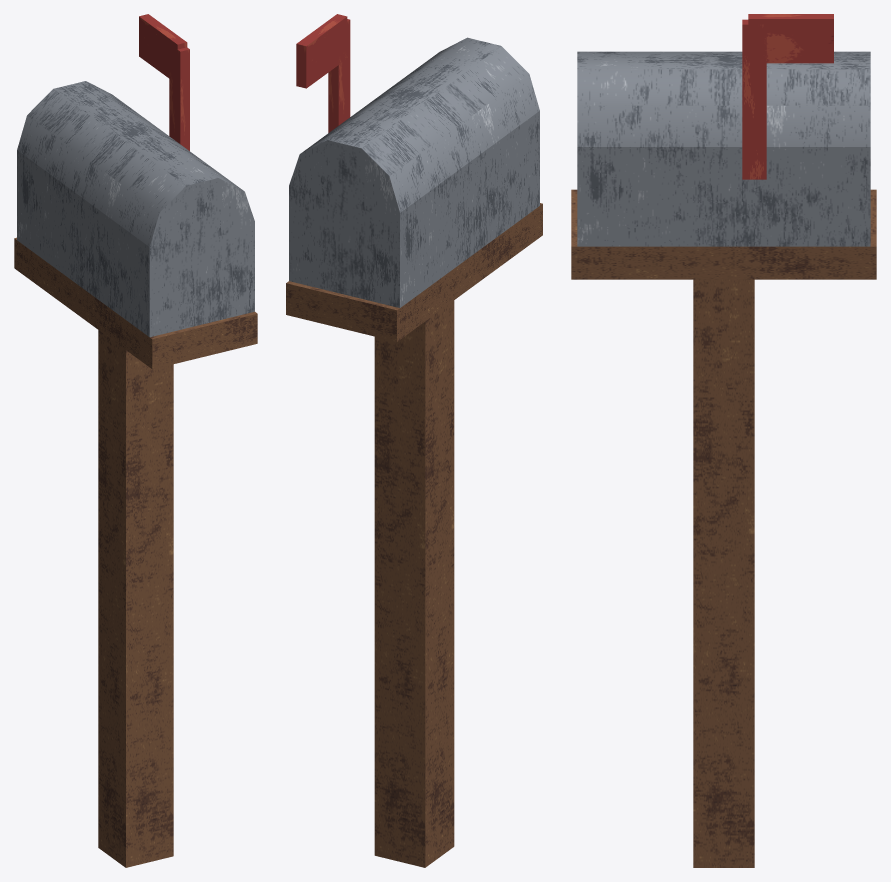
The model's file is mailbox.glb.
The picture shows the model from 3 angles, left to right: view 1: azimuth 30°, elevation 25°; view 2: azimuth 150°, elevation 25°; view 3: azimuth 270°, elevation 25°; orthographic projection. The views are drawn at different scales.
Parts seen in each view (by area): view 1: Prop; view 2: Prop; view 3: Prop.
Boxes of the visible parts, box(x1,y1,x2,y2) form: Prop: box(14, 14, 257, 867); Prop: box(286, 14, 542, 867); Prop: box(571, 14, 876, 867).
Bounding box in the file's own units: 0.24 × 1.57 × 0.5.
3 materials, 3 textured.
